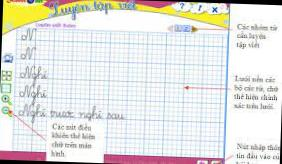text: (16, 102, 126, 126), (45, 0, 139, 21), (18, 82, 48, 105), (18, 64, 48, 86), (236, 140, 280, 153), (232, 82, 279, 94), (234, 72, 276, 84), (233, 91, 278, 102), (235, 21, 278, 32), (50, 130, 96, 140), (235, 150, 280, 160), (34, 20, 76, 30), (50, 140, 92, 150), (233, 100, 274, 110), (51, 122, 91, 132), (236, 30, 266, 41), (235, 39, 260, 50), (19, 26, 36, 41), (20, 45, 36, 60), (49, 148, 65, 158), (5, 0, 43, 3), (234, 160, 258, 164), (176, 25, 180, 30), (183, 26, 188, 30)
